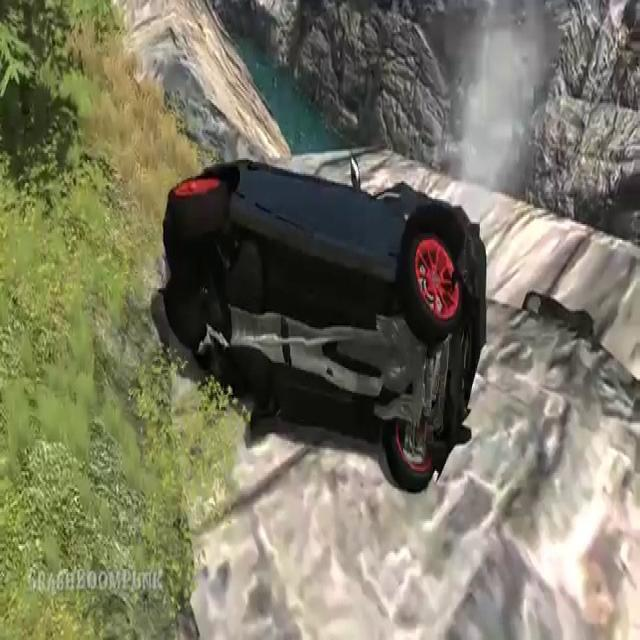severe: (162, 142, 493, 497)
